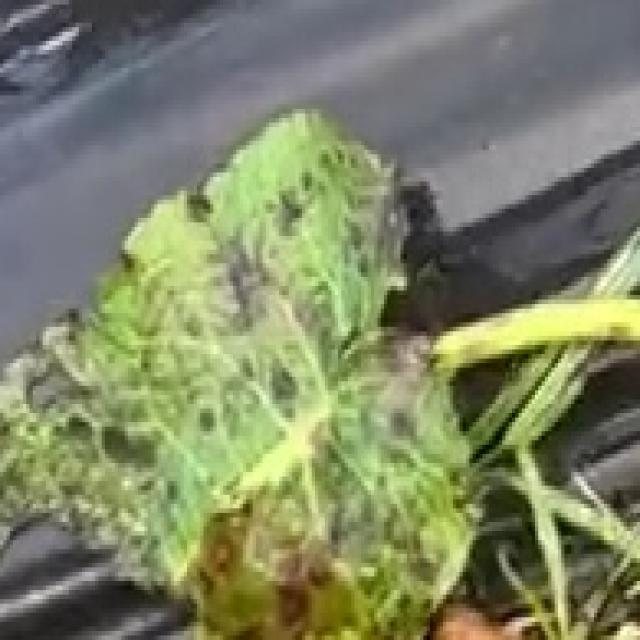organic waste: (0, 120, 590, 640)
